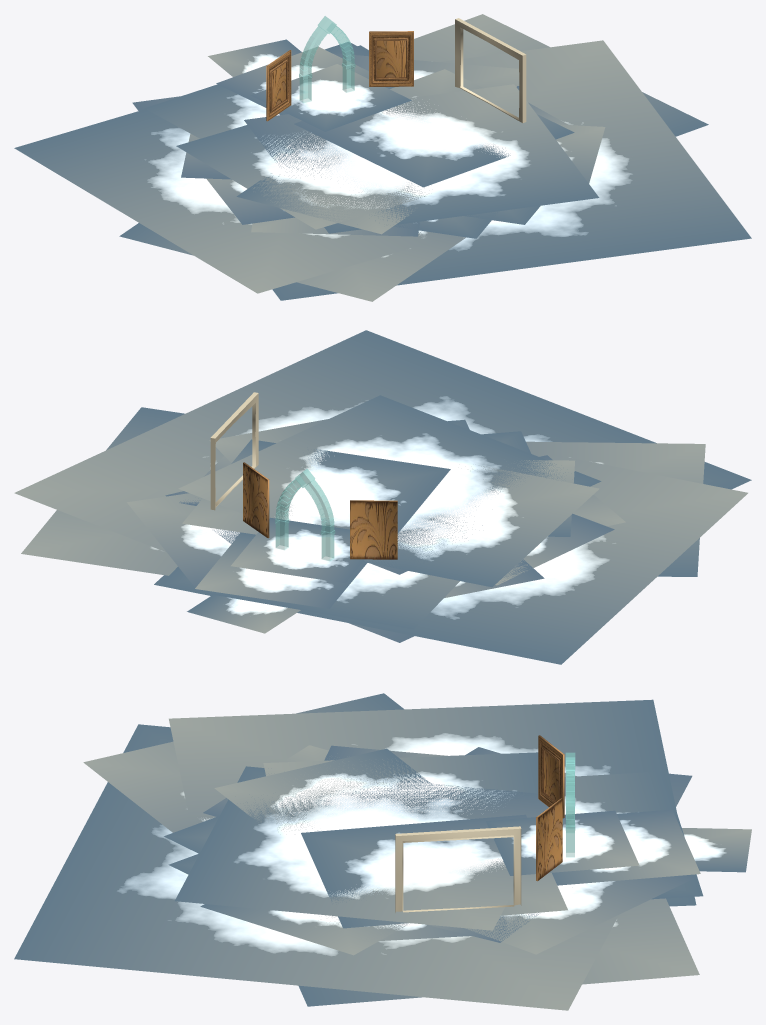
File: Spawn.fbx
3 renders of one model, top to bottom at view 1: azimuth 30°, elevation 25°; view 2: azimuth 150°, elevation 25°; view 3: azimuth 270°, elevation 25°, orthographic. The views are drawn at different scales.
Parts seen in each view (by area): view 1: Bright Cloud.014, Bright Cloud.012, Bright Cloud.018, Bright Cloud.016, Bright Cloud.017, Bright Cloud.019, Bright Cloud.011, Bright Cloud.013, Bright Cloud.010, Spawn Info Frames, Bright Cloud.015, Bright Cloud.020 (+10 smaller); view 2: Bright Cloud.014, Bright Cloud.012, Bright Cloud.018, Bright Cloud.016, Bright Cloud.017, Bright Cloud.010, Bright Cloud.013, Bright Cloud.019, Bright Cloud.011, Bright Cloud, Bright Cloud.020, Spawn Info Frames (+8 smaller); view 3: Bright Cloud.014, Bright Cloud.018, Bright Cloud.012, Bright Cloud.017, Bright Cloud.016, Bright Cloud.013, Bright Cloud.015, Bright Cloud, Bright Cloud.011, Bright Cloud.019, Bright Cloud.020, Bright Cloud.010 (+10 smaller).
Boxes of the visible parts, <box> form: Bright Cloud.014: <box>132,40,751,300</box>; Bright Cloud.012: <box>14,45,434,293</box>; Bright Cloud.018: <box>244,84,599,233</box>; Bright Cloud.016: <box>176,113,425,229</box>; Bright Cloud.017: <box>294,69,574,187</box>; Bright Cloud.019: <box>250,64,411,131</box>; Bright Cloud.011: <box>119,223,466,301</box>; Bright Cloud.013: <box>414,14,708,136</box>; Bright Cloud.010: <box>144,42,368,138</box>; Spawn Info Frames: <box>266,31,413,121</box>; Bright Cloud.015: <box>236,173,415,234</box>; Bright Cloud.020: <box>216,46,394,114</box>; Bright Cloud.014: <box>14,330,751,642</box>; Bright Cloud.012: <box>154,453,747,664</box>; Bright Cloud.018: <box>178,395,601,574</box>; Bright Cloud.016: <box>363,466,599,587</box>; Bright Cloud.017: <box>182,439,450,534</box>; Bright Cloud.010: <box>160,563,459,629</box>; Bright Cloud.013: <box>21,407,184,575</box>; Bright Cloud.019: <box>231,517,364,583</box>; Bright Cloud.011: <box>526,441,705,576</box>; Bright Cloud: <box>127,493,239,591</box>; Bright Cloud.020: <box>195,532,366,608</box>; Spawn Info Frames: <box>243,462,397,559</box>; Bright Cloud.014: <box>14,724,692,1010</box>; Bright Cloud.018: <box>175,766,548,930</box>; Bright Cloud.012: <box>169,699,696,906</box>; Bright Cloud.017: <box>301,814,567,928</box>; Bright Cloud.016: <box>263,752,541,830</box>; Bright Cloud.013: <box>298,898,699,1006</box>; Bright Cloud.015: <box>214,748,437,822</box>; Bright Cloud: <box>466,875,695,954</box>; Bright Cloud.011: <box>83,693,403,832</box>; Bright Cloud.019: <box>486,810,639,875</box>; Bright Cloud.020: <box>552,809,700,885</box>; Bright Cloud.010: <box>564,771,703,899</box>.
Bounding box in the file's own units: 3882 × 589 × 3814.
